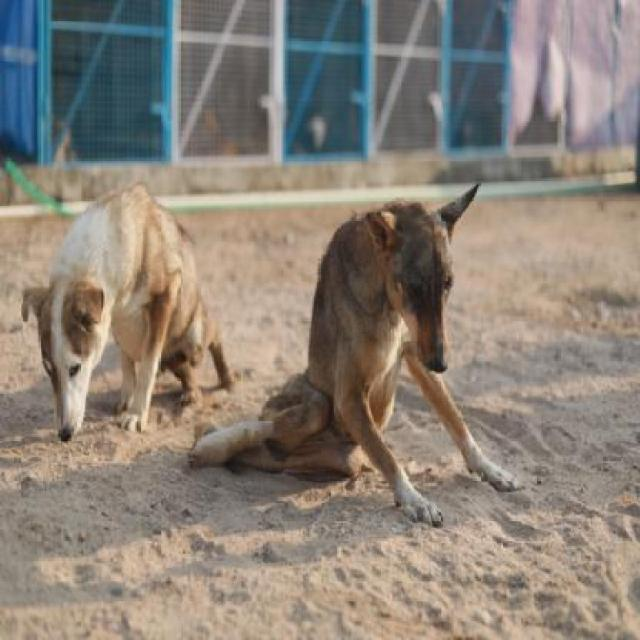dog: (38, 122, 240, 467), (278, 182, 487, 507)
injured: (196, 396, 346, 512), (155, 297, 242, 426)
